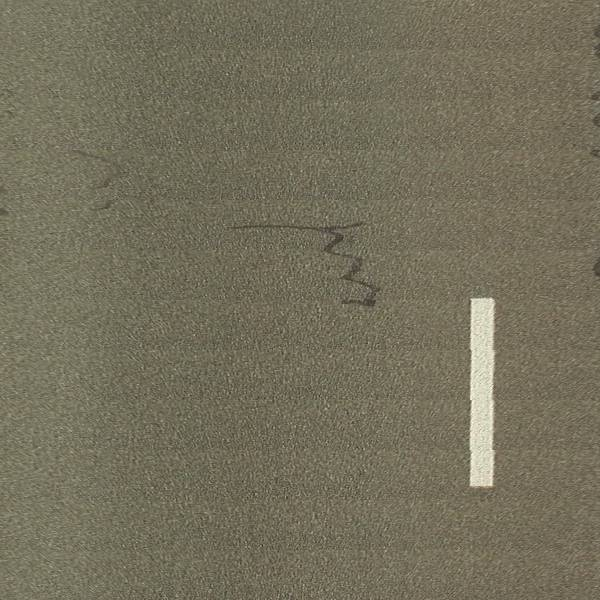road_damage: (317, 216, 384, 310)
